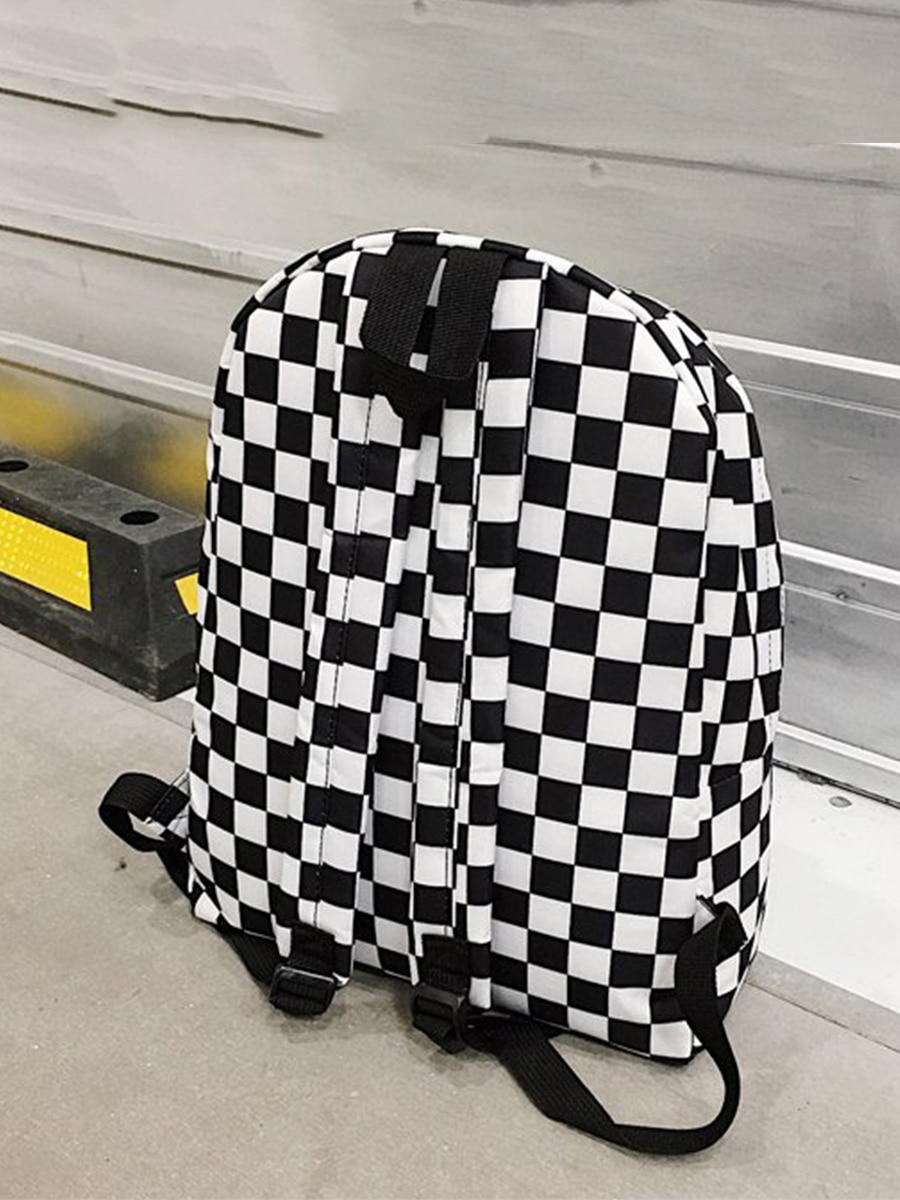Men's Backpacks: (95, 225, 783, 1163)
